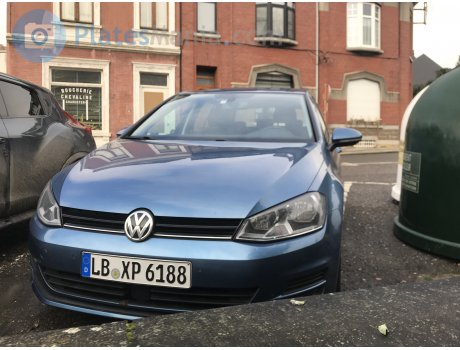License Plates: (83, 247, 188, 282)
